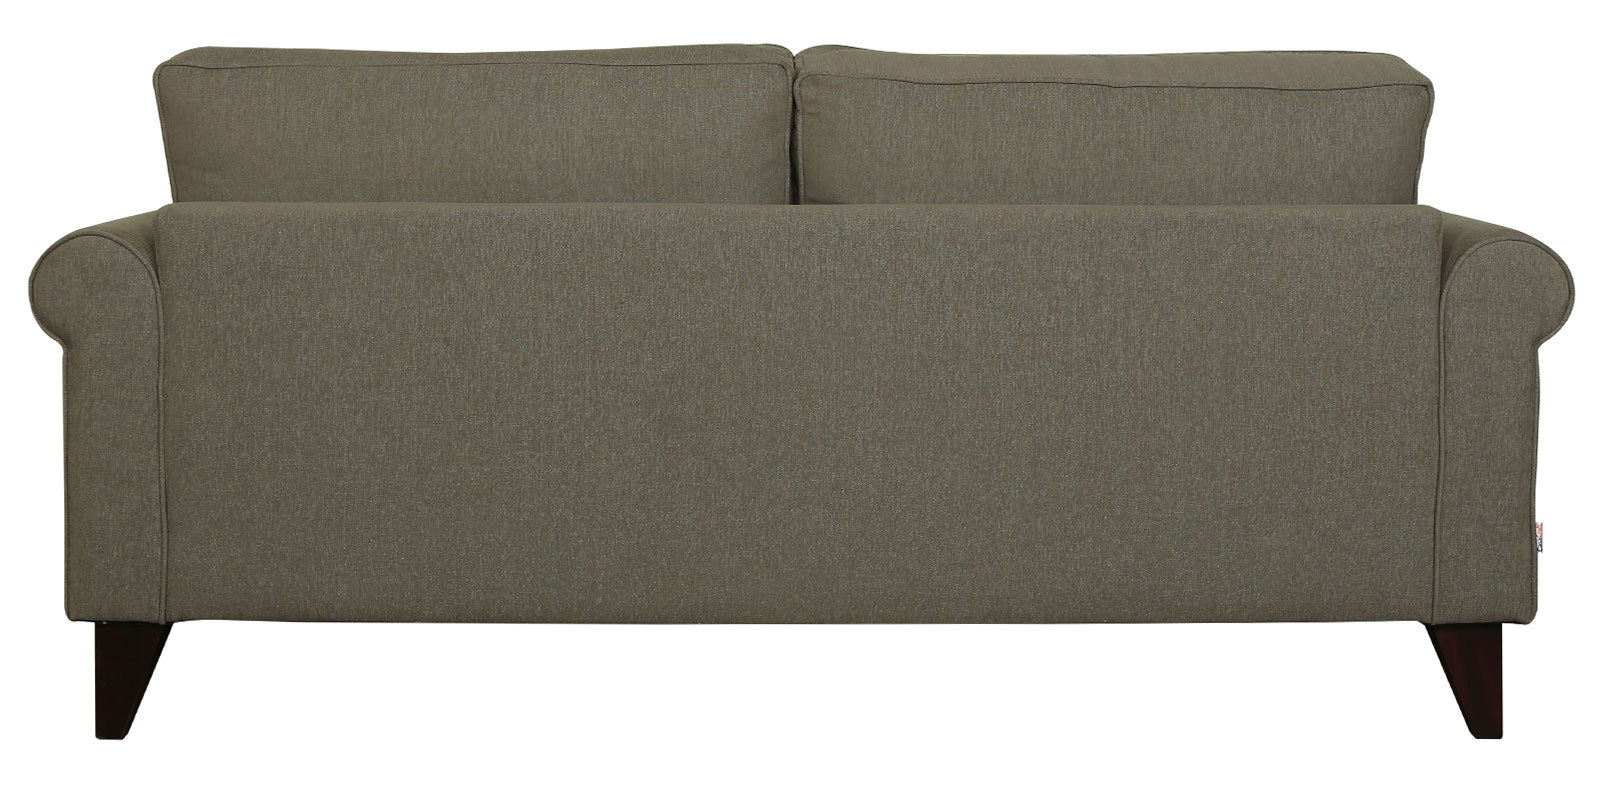Fuego Three Seater Sofa in Sandy Brown Colour by CasaCraft: (31, 34, 1600, 798)
